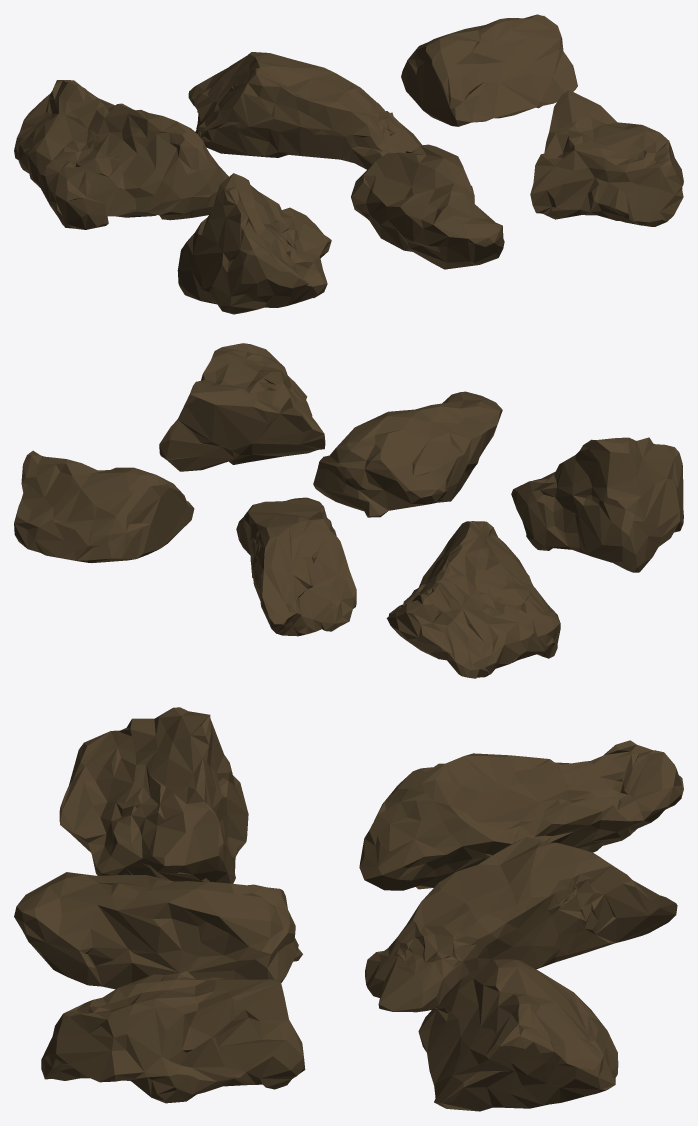
The model's file is rock_moss_set_01.glb.
The picture shows the model from 3 angles, top to bottom: view 1: azimuth 30°, elevation 25°; view 2: azimuth 150°, elevation 25°; view 3: azimuth 270°, elevation 25°; orthographic projection. The views are drawn at different scales.
Visible parts, largest first — view 1: rock_moss_set_01_rock01; view 2: rock_moss_set_01_rock01; view 3: rock_moss_set_01_rock01.
Part boxes in pixels (x1,y1,x2,y2): rock_moss_set_01_rock01: (14,14,683,314); rock_moss_set_01_rock01: (14,343,683,678); rock_moss_set_01_rock01: (14,707,683,1111).
Bounding box in the file's own units: 8 × 1.76 × 6.94.
